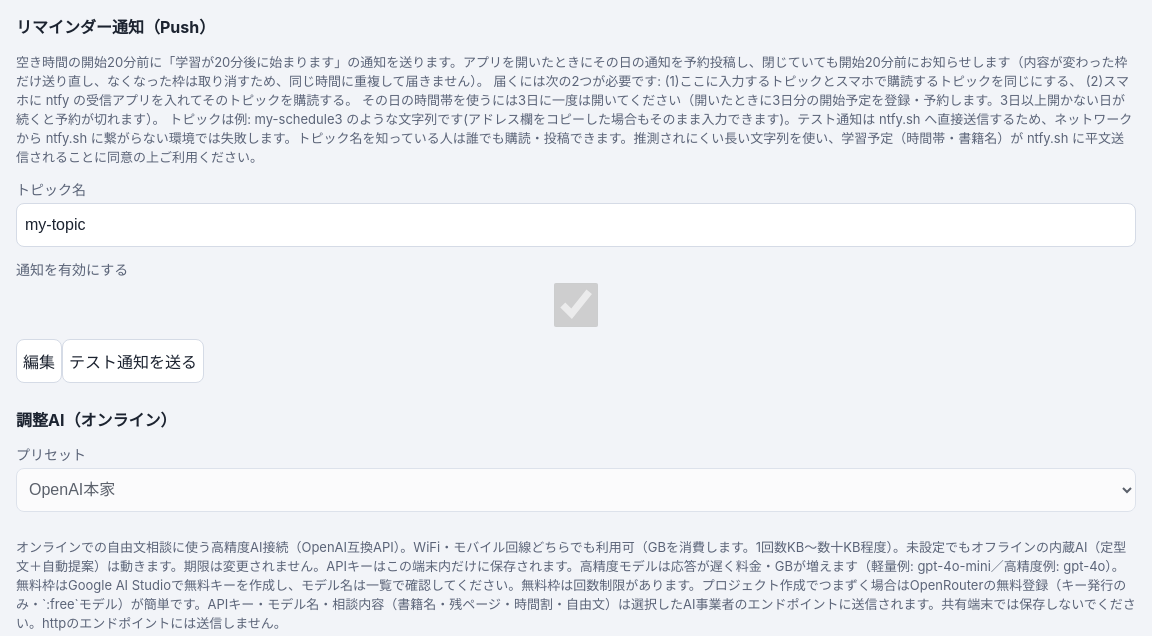
Test: sends a test notification to the ntfy topic
The width and height of the screenshot is (1152, 636).
(page scrolled)
Click the button with test id "ntfy-test" at (133, 361), box [62,339,204,383]
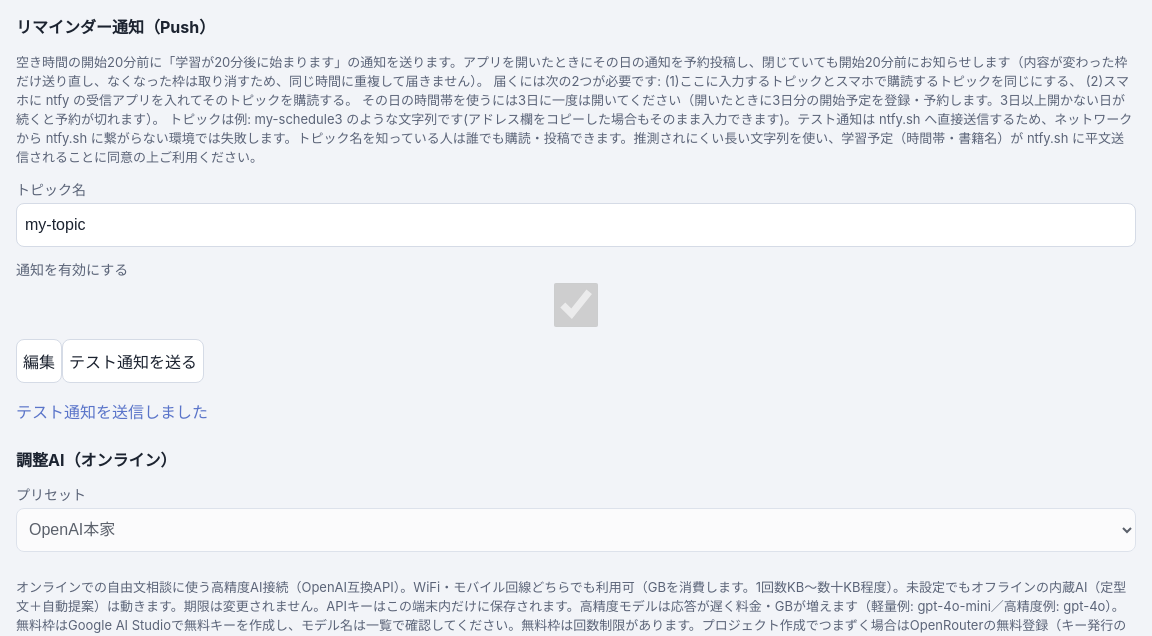
Expected: the text with test id "ntfy-result" reads "テスト通知を送信しました", [16,402,208,422]
